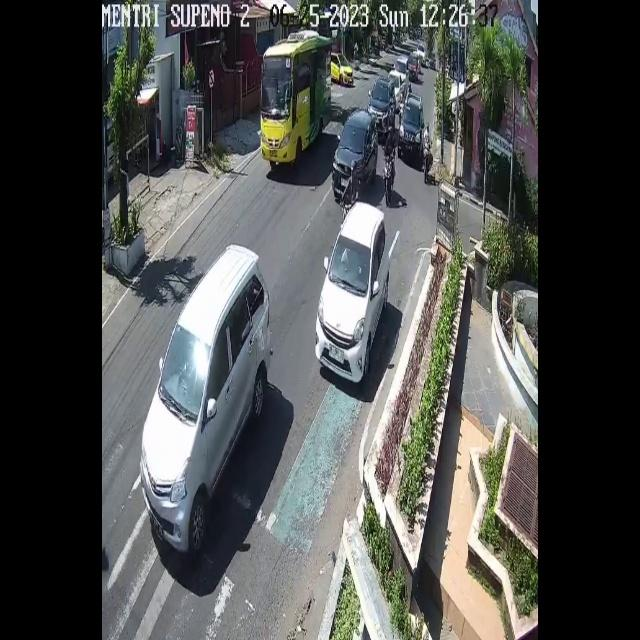bus: (383, 154, 394, 205), (423, 138, 432, 182)
car: (261, 30, 331, 162)
motorcycle: (139, 242, 272, 550), (315, 201, 389, 383), (331, 108, 379, 198), (368, 75, 397, 134), (398, 91, 423, 159), (331, 52, 354, 86), (395, 56, 409, 90)
